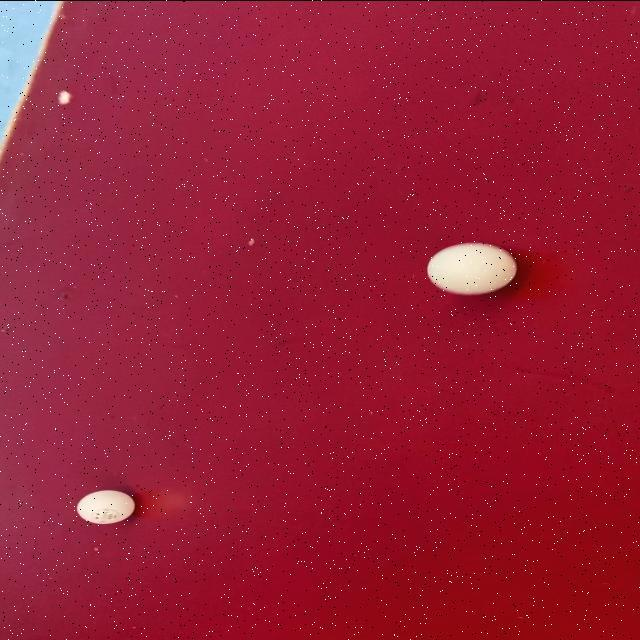ping-pong-ball: (422, 238, 520, 296), (72, 485, 140, 525)
